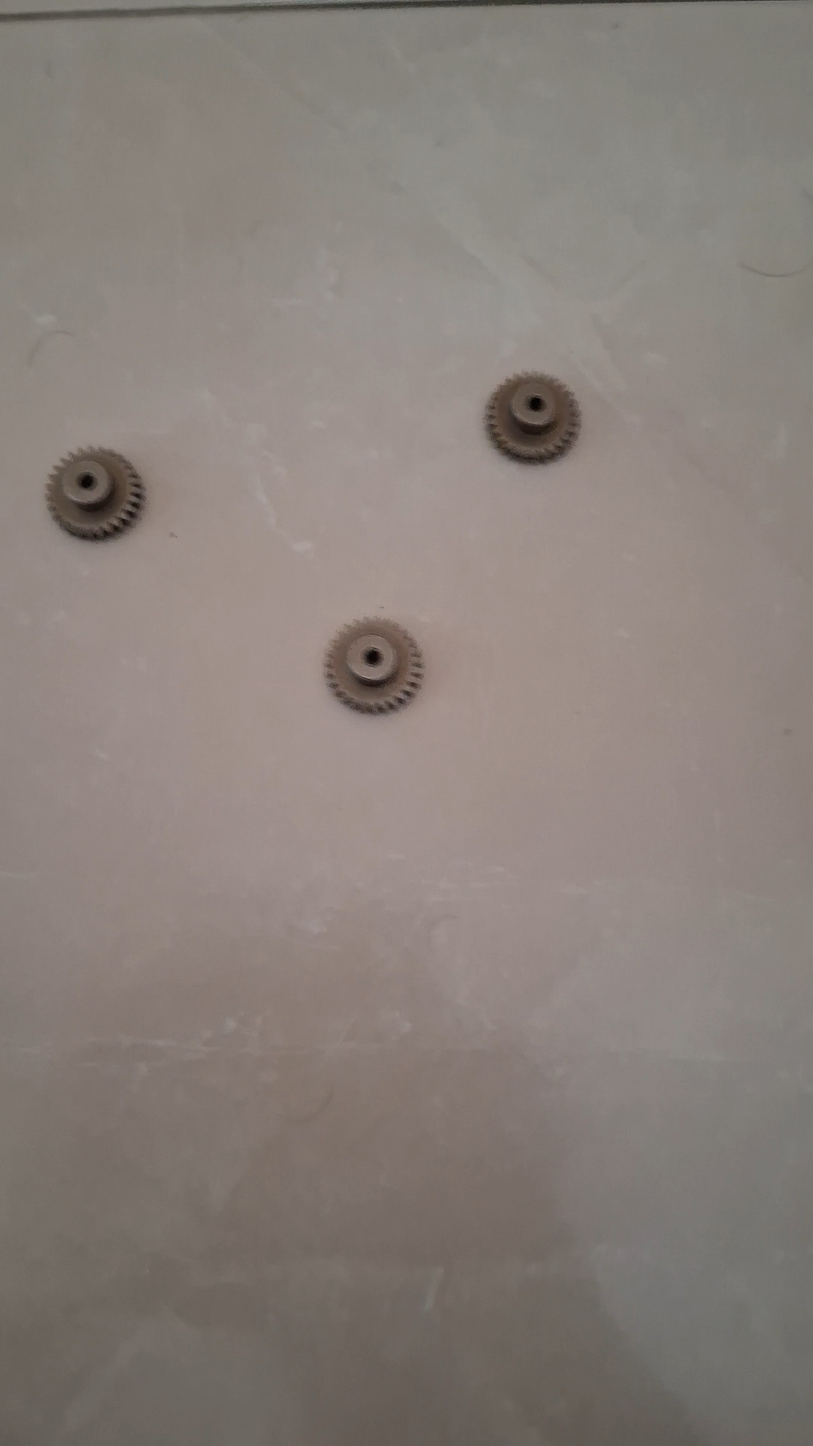spur gear: (324, 619, 423, 713), (46, 448, 144, 540), (485, 374, 580, 462)
